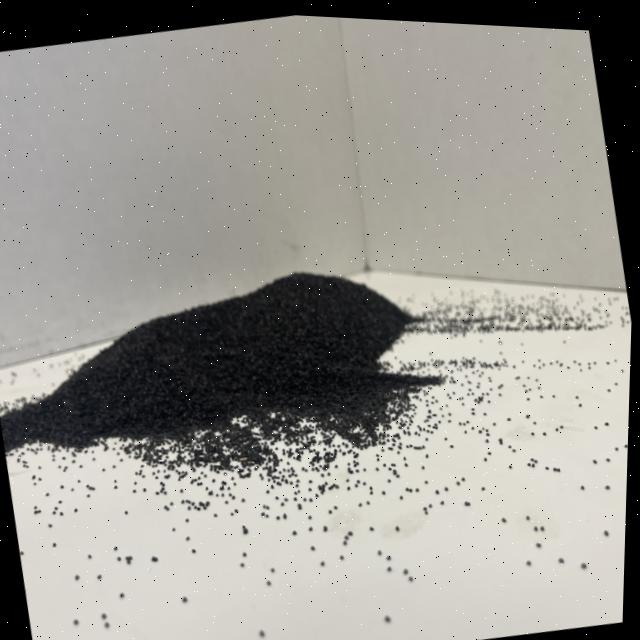Poppy Seeds: (0, 183, 475, 550)
